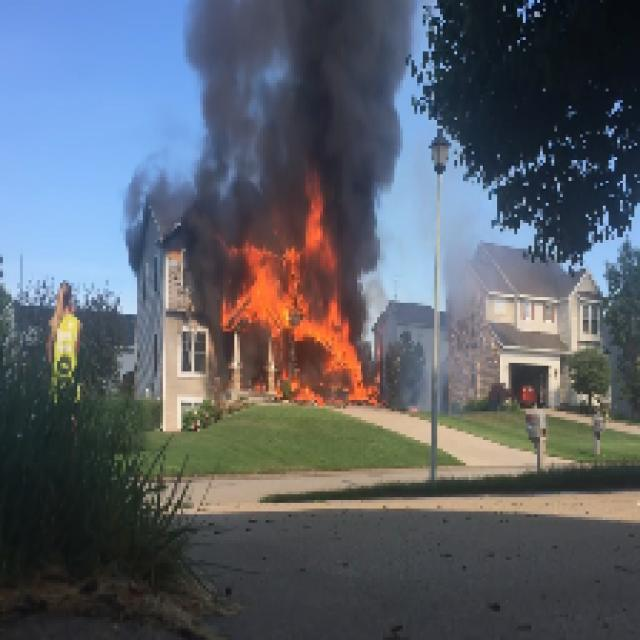Fire: (220, 246, 297, 326), (306, 174, 338, 346)
Smoke: (197, 3, 412, 160), (357, 177, 429, 346), (120, 123, 197, 220), (437, 203, 494, 320)
